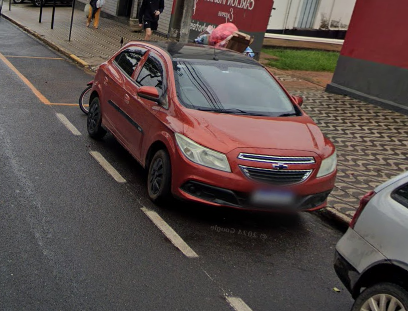car: (85, 34, 341, 235)
